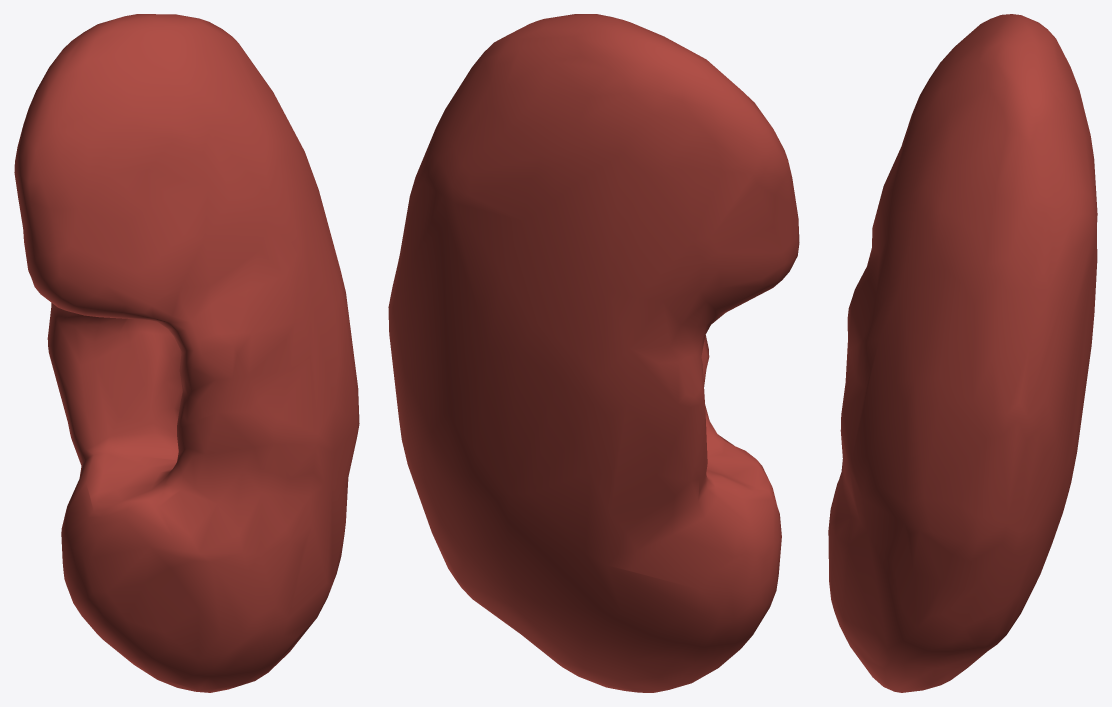
The model's file is visceras-kidney-l.glb.
The picture shows the model from 3 angles, left to right: view 1: azimuth 30°, elevation 25°; view 2: azimuth 150°, elevation 25°; view 3: azimuth 270°, elevation 25°; orthographic projection. The views are drawn at different scales.
Parts seen in each view (by area): view 1: Kidney.l; view 2: Kidney.l; view 3: Kidney.l.
Part boxes in pixels (bbox=[...]): Kidney.l: bbox=[14, 14, 359, 692]; Kidney.l: bbox=[388, 14, 799, 692]; Kidney.l: bbox=[828, 14, 1097, 692].
Bounding box in the file's own units: 0.0575 × 0.1059 × 0.0405.
